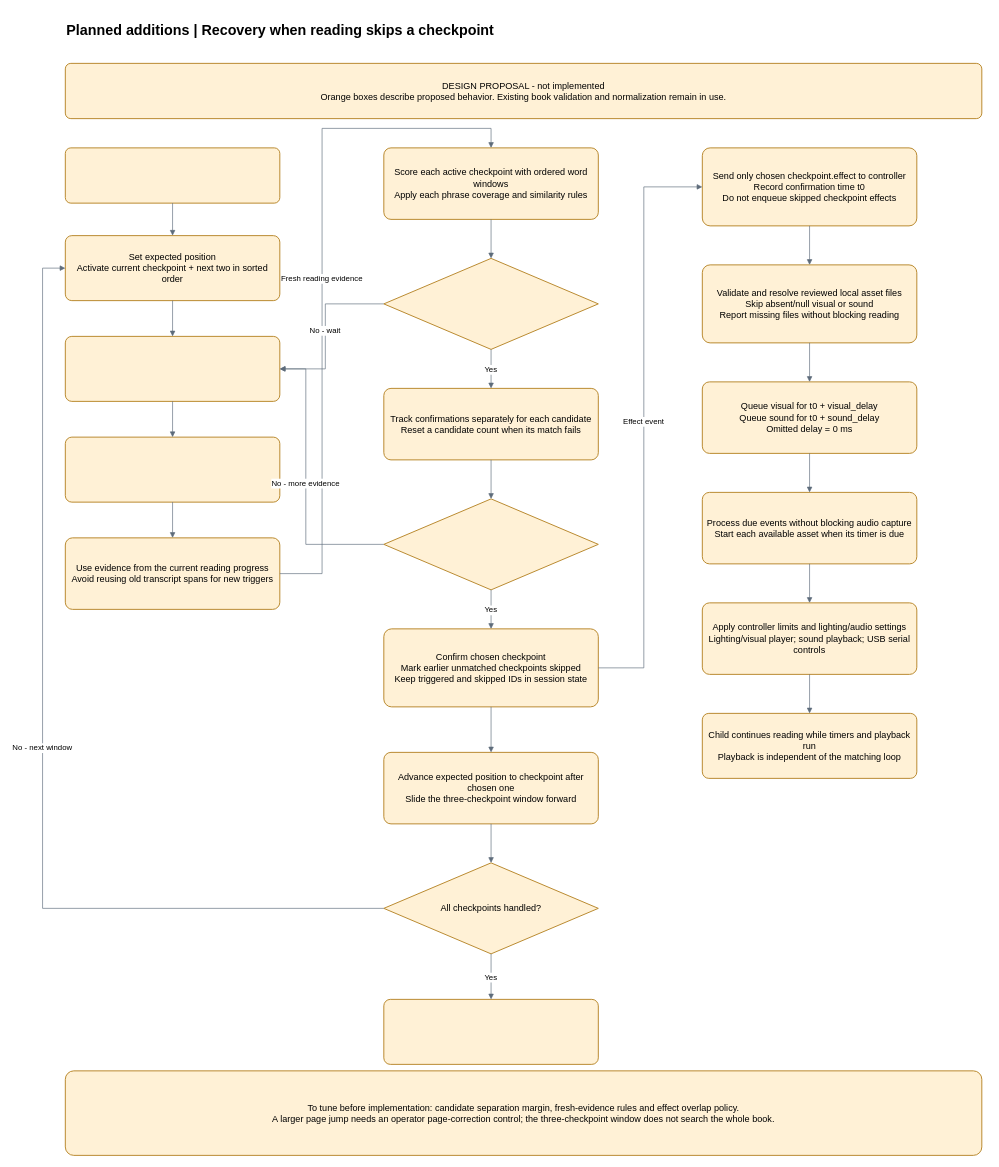
The diagram is 999 pixels wide and 1167 high, and some of its shapes have lost their labels. The shapes that lost their labels are listed below. From the top down, each one's centre as x and y in pixels, then its label:
At point 172,175: "Identify book via RFID/NFC Load its reviewed local book package".
At point 491,304: "Is there a clear candidate match? Hold if candidate phrases are ambiguous".
At point 172,369: "Capture speech; local streaming ASR Target: Moonshine instead of WhisperLive".
At point 172,469: "Receive partial text and segment/time evidence Normalize text for matching".
At point 491,544: "Candidate stable enough?".
At point 491,1032: "Checkpoint sequence complete No replay of triggered or skipped effects".
